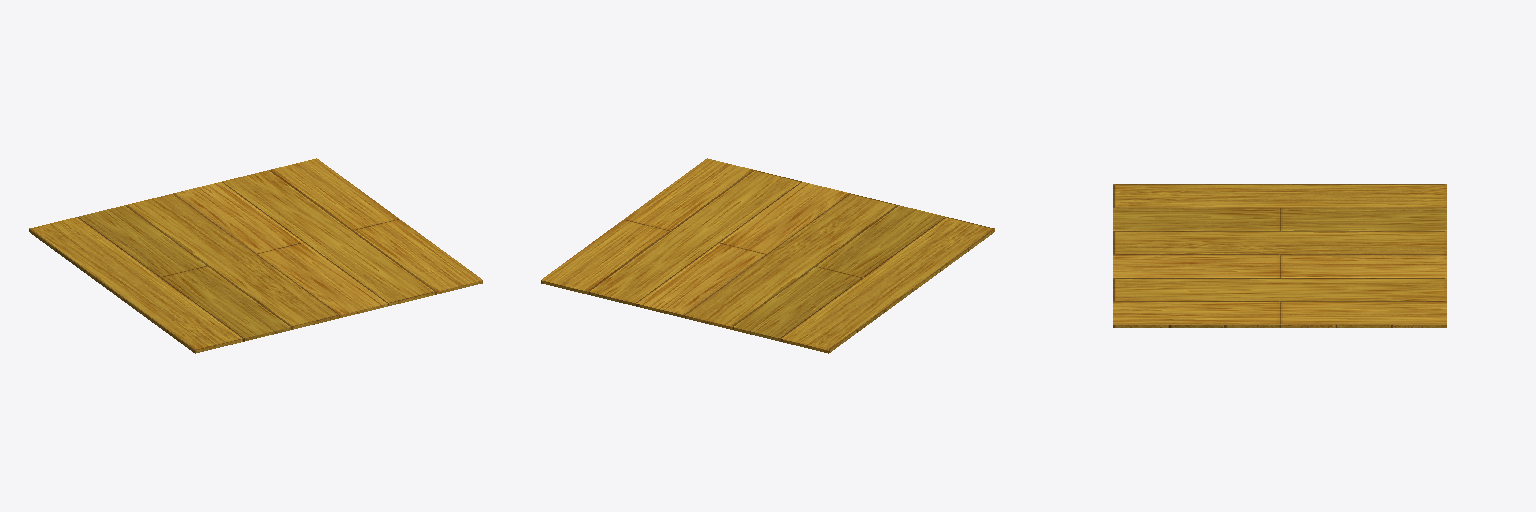
3 renders of one model, left to right at view 1: azimuth 30°, elevation 25°; view 2: azimuth 150°, elevation 25°; view 3: azimuth 270°, elevation 25°, orthographic.
Visible parts, largest first — view 1: Box001; view 2: Box001; view 3: Box001.
Part boxes in pixels (left/top/right/bottom): Box001: left=29, top=158, right=482, bottom=353; Box001: left=541, top=158, right=994, bottom=353; Box001: left=1113, top=184, right=1446, bottom=327.
Size of the model in its own units: 50 by 0.5 by 50.
1 materials, 1 textured.